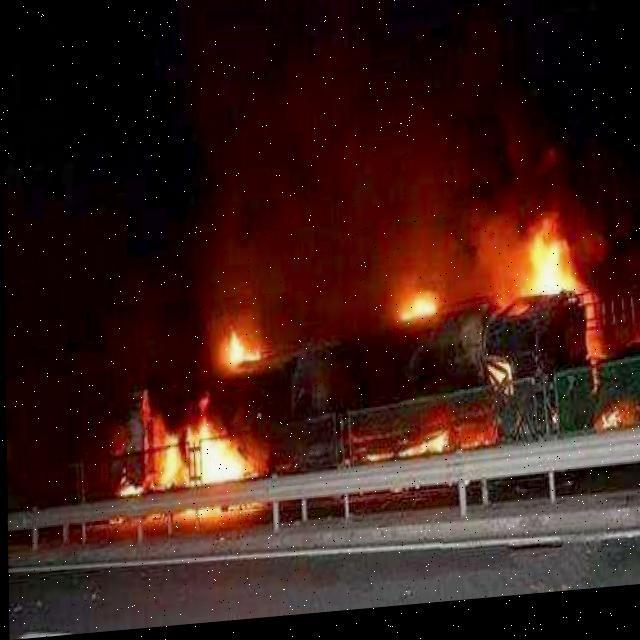Fire: (144, 411, 248, 494), (509, 231, 581, 313), (366, 440, 454, 470), (220, 323, 264, 375), (397, 295, 438, 329)
